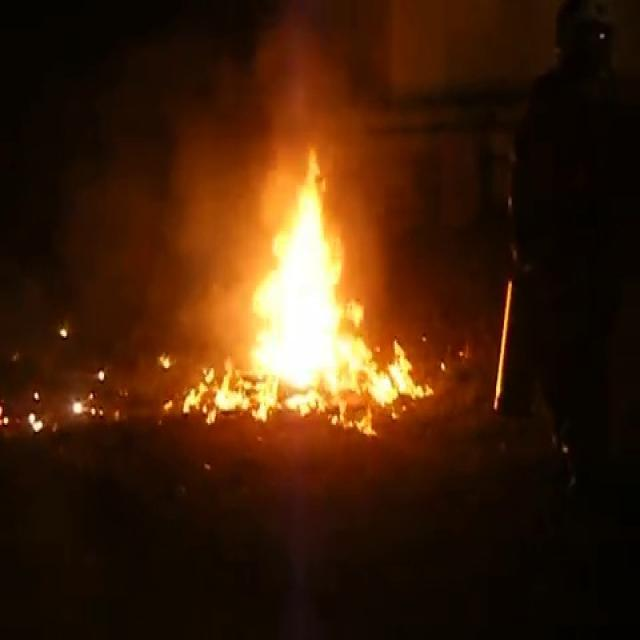Fire: (212, 139, 414, 425)
Smoke: (97, 2, 320, 250)
